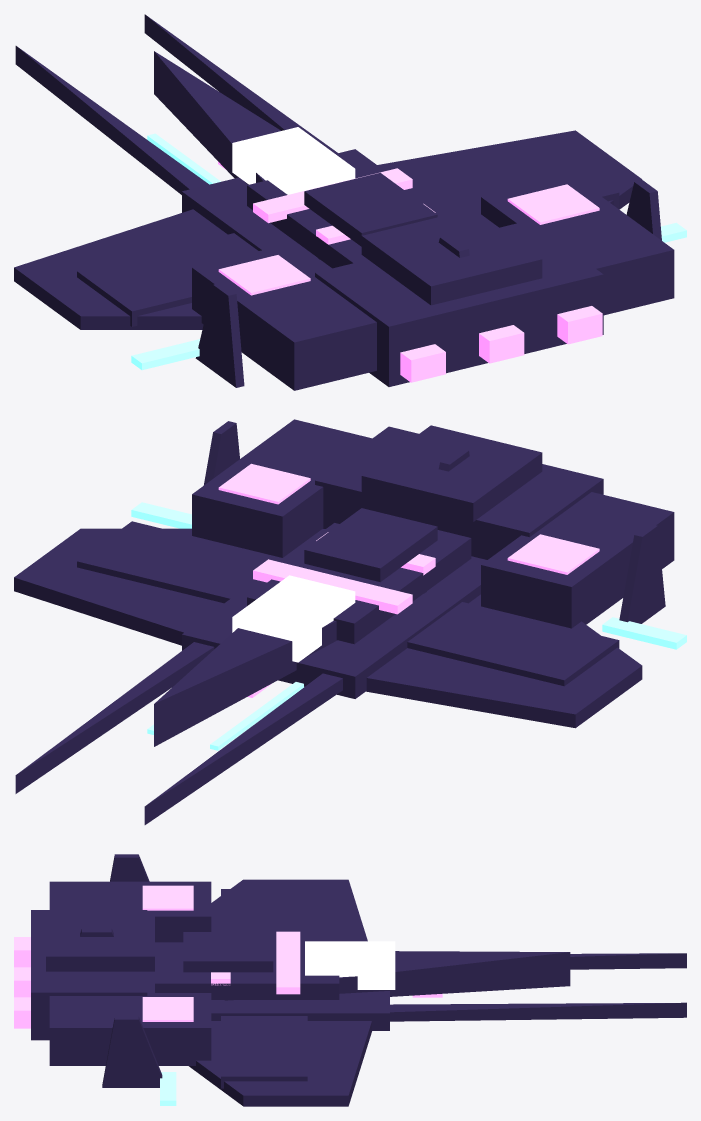
File: glidebooster_vx7.glb
3 renders of one model, top to bottom at view 1: azimuth 30°, elevation 25°; view 2: azimuth 150°, elevation 25°; view 3: azimuth 270°, elevation 25°, orthographic. The views are drawn at different scales.
Parts seen in each view (by area): view 1: rear_block_24, engine_pod_left_20, upper_engine_block_25, engine_pod_right_21, wing_left_12, wing_root_left_14, wing_right_13, nose_body_4, cockpit_5, top_ridge_9, mid_body_7, wing_root_right_15 (+13 smaller); view 2: engine_pod_left_20, wing_left_12, engine_pod_right_21, rear_block_24, upper_engine_block_25, wing_right_13, wing_root_left_14, mid_body_7, wing_root_right_15, nose_body_4, top_ridge_9, cockpit_5 (+11 smaller); view 3: engine_pod_right_21, wing_right_13, nose_body_4, upper_engine_block_25, wing_root_right_15, engine_pod_left_20, upper_spine_8, rear_block_24, prong_right_1, wing_left_12, mid_body_7, wing_root_left_14 (+12 smaller).
Part boxes in pixels (left/top/right/bottom): rear_block_24: left=315, top=220, right=603, bottom=386; engine_pod_left_20: left=192, top=245, right=376, bottom=390; upper_engine_block_25: left=361, top=208, right=542, bottom=305; engine_pod_right_21: left=481, top=175, right=674, bottom=315; wing_left_12: left=14, top=209, right=227, bottom=329; wing_root_left_14: left=77, top=233, right=258, bottom=326; wing_right_13: left=377, top=130, right=642, bottom=209; nose_body_4: left=154, top=51, right=320, bottom=259; cockpit_5: left=232, top=127, right=355, bottom=194; top_ridge_9: left=304, top=172, right=437, bottom=246; mid_body_7: left=182, top=149, right=445, bottom=271; wing_root_right_15: left=411, top=152, right=619, bottom=215; engine_pod_left_20: left=481, top=492, right=674, bottom=628; wing_left_12: left=366, top=594, right=642, bottom=728; engine_pod_right_21: left=192, top=419, right=371, bottom=557; rear_block_24: left=315, top=426, right=603, bottom=559; upper_engine_block_25: left=361, top=425, right=542, bottom=521; wing_right_13: left=14, top=528, right=325, bottom=645; wing_root_left_14: left=407, top=602, right=619, bottom=686; mid_body_7: left=182, top=523, right=486, bottom=698; wing_root_right_15: left=77, top=521, right=284, bottom=603; nose_body_4: left=154, top=591, right=426, bottom=746; top_ridge_9: left=304, top=508, right=437, bottom=582; cockpit_5: left=232, top=575, right=355, bottom=662; engine_pod_right_21: left=49, top=993, right=211, bottom=1065; wing_right_13: left=147, top=987, right=371, bottom=1106; nose_body_4: left=224, top=951, right=570, bottom=1000; upper_engine_block_25: left=46, top=913, right=154, bottom=971; wing_root_right_15: left=221, top=1016, right=307, bottom=1088; engine_pod_left_20: left=49, top=881, right=211, bottom=942; upper_spine_8: left=155, top=942, right=339, bottom=999; rear_block_24: left=31, top=910, right=147, bottom=1040; prong_right_1: left=390, top=1002, right=686, bottom=1021; wing_left_12: left=147, top=879, right=367, bottom=987; mid_body_7: left=149, top=971, right=389, bottom=1030; wing_root_left_14: left=221, top=889, right=307, bottom=942.
Bounding box in the file's own units: 6.8 × 1.19 × 8.95.
